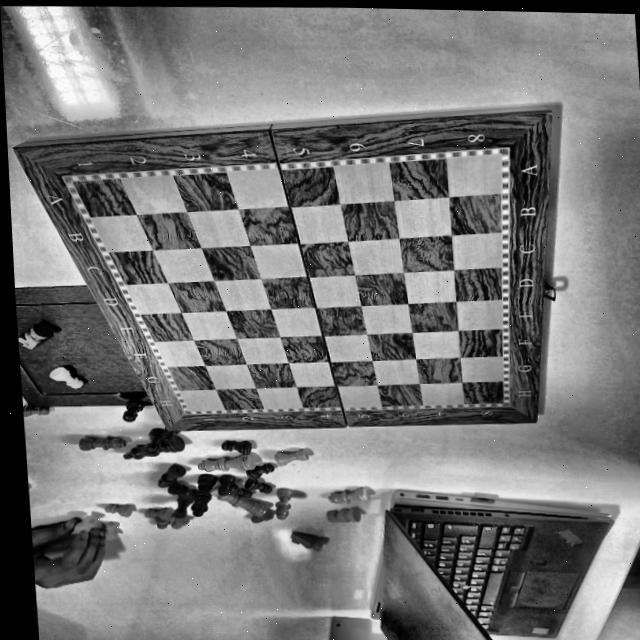chessboard: (12, 112, 553, 431)
